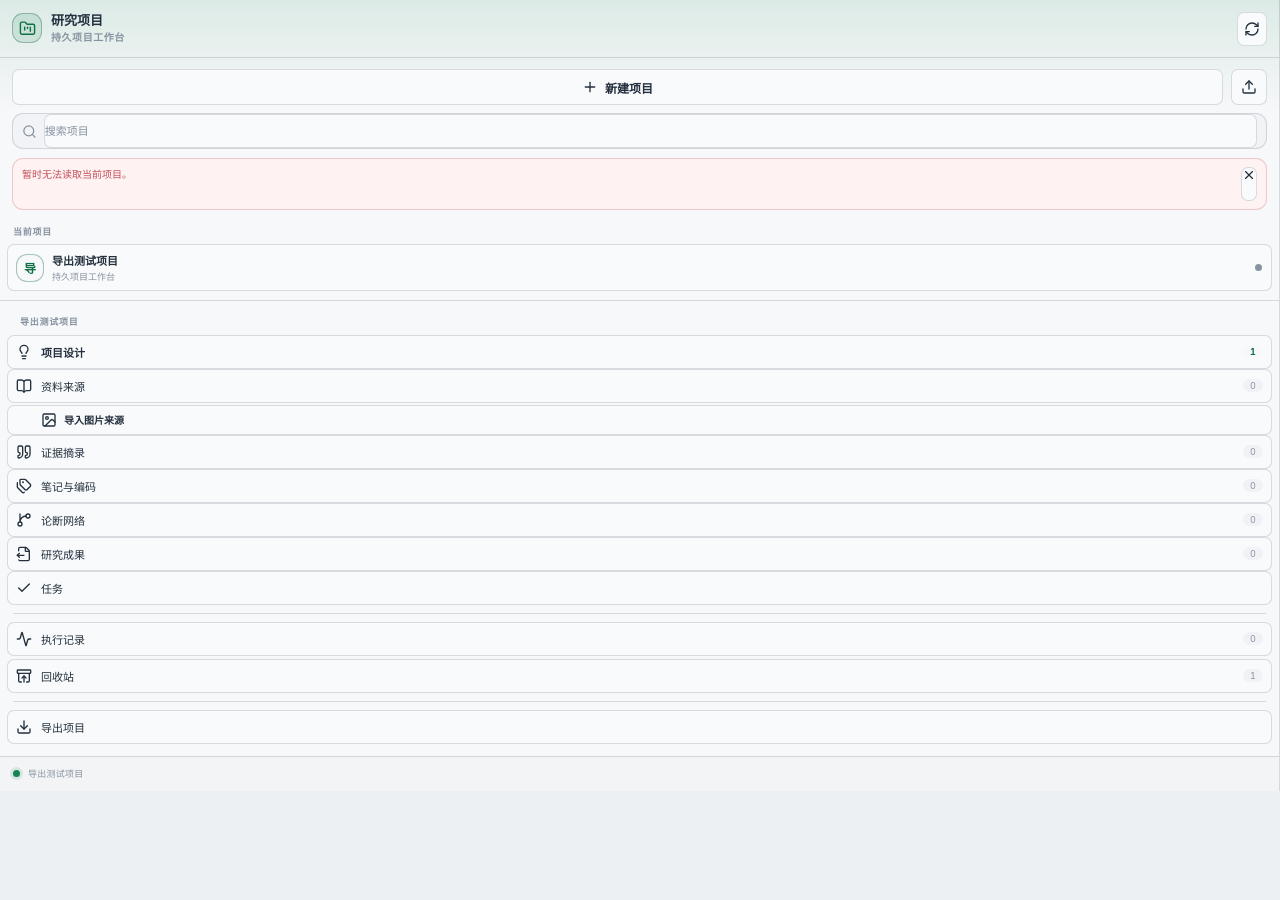
Test case: ProjectWorkspaceSidebar export › exports the active project and reports the archive path
Click the button with test id "sidebar-export-project" at (63, 728), box x1=7 y1=710 x2=1272 y2=744
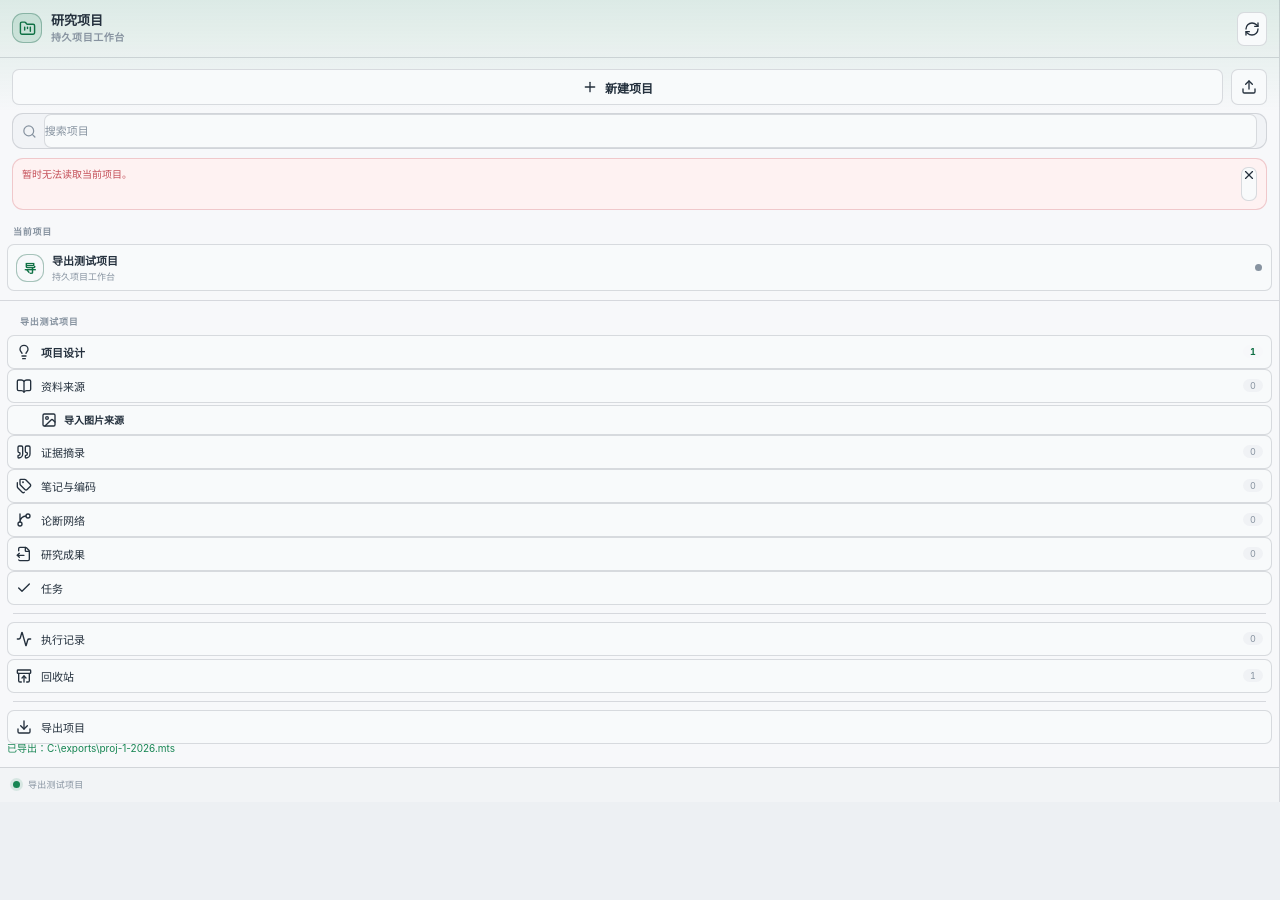
Result: the text "已导出：C:\\exports\\proj-1-2026.mts" is shown at x1=7 y1=742 x2=175 y2=754
